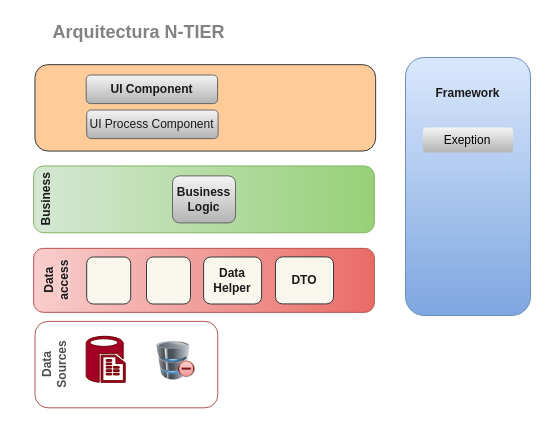
The diagram is 549 pixels wide and 425 high, and some of its shapes have lost their labels. The shapes that lost their labels are listed below. From the top down, each one's centre as x and y in pixels, then its label:
At (x=205, y=107): "User Interface".
At (x=108, y=280): "DAO".
At (x=168, y=280): "IDAO".
At (x=105, y=358): "SQLITE".
At (x=176, y=360): "database".
